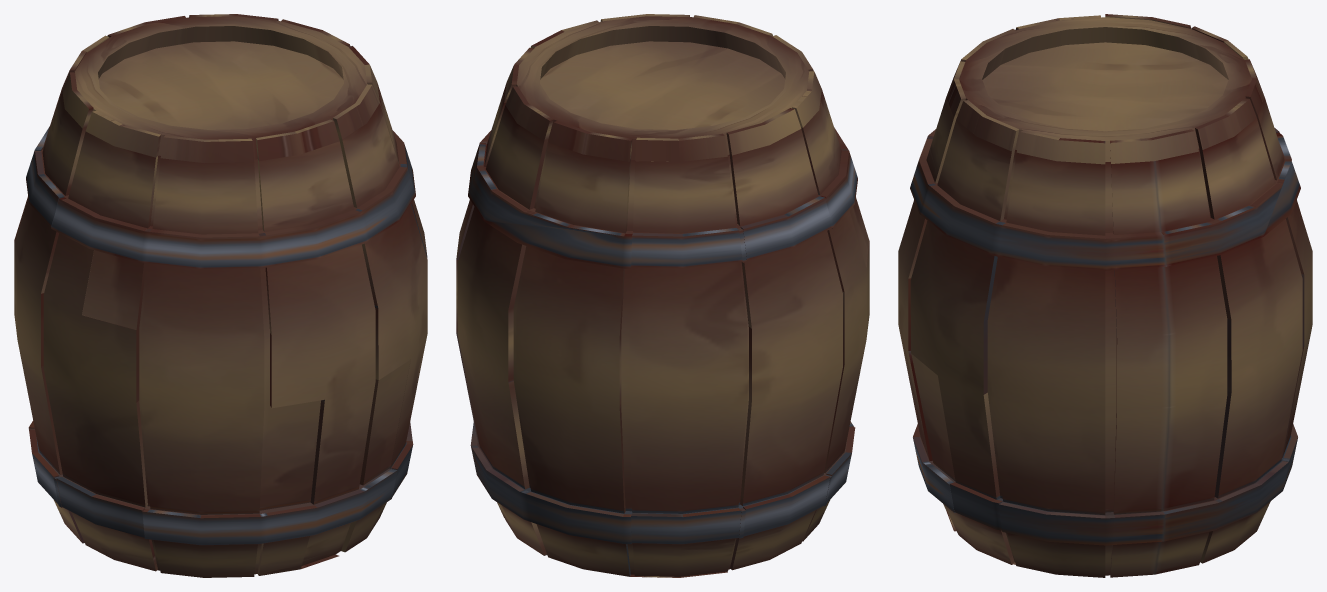
Rendered from Barrel.fbx.
3 views of the same model, side by side, from view 1: azimuth 30°, elevation 25°; view 2: azimuth 150°, elevation 25°; view 3: azimuth 270°, elevation 25° (orthographic).
Visible parts, largest first — view 1: Barrel1; view 2: Barrel1; view 3: Barrel1.
Boxes of the visible parts, x1=… form: Barrel1: x1=14, y1=14, x2=427, y2=577; Barrel1: x1=456, y1=14, x2=869, y2=577; Barrel1: x1=898, y1=14, x2=1312, y2=577.
Size of the model in its own units: 49.27 by 56.73 by 49.27.
